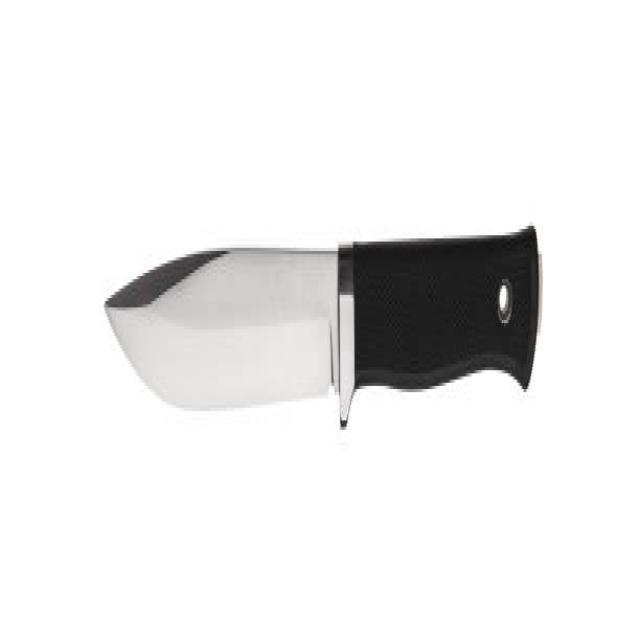knife: (104, 218, 548, 451)
